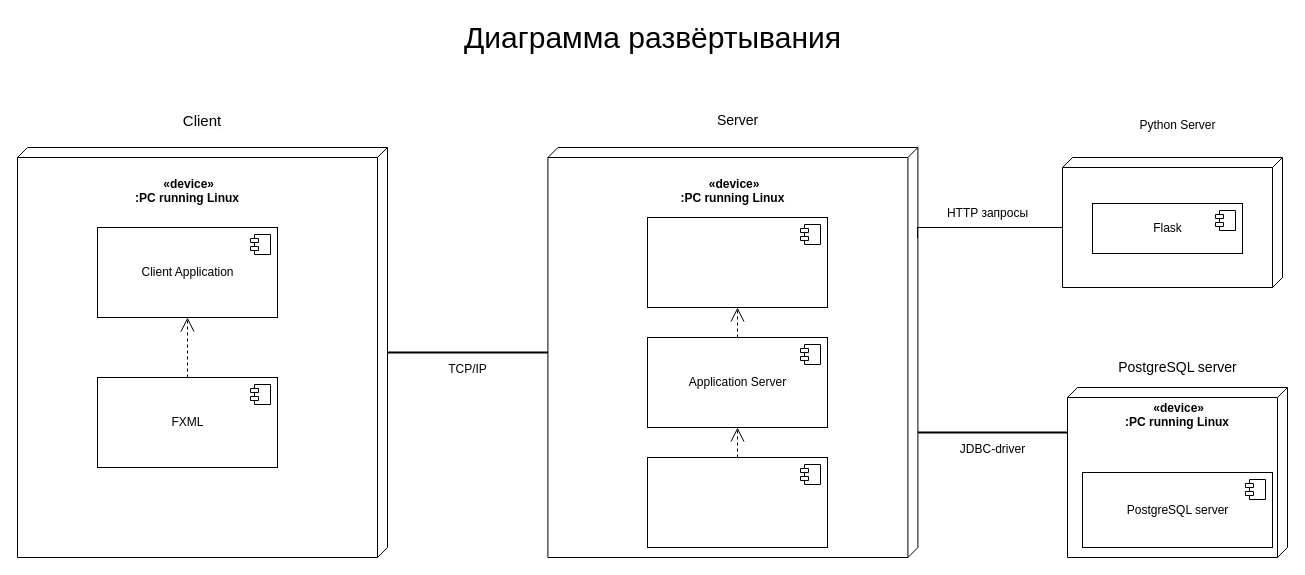
Some shapes in this 1305 by 575 pixel diagram are drawn without their labels. The centre of each missing label's shape, as x and y in pixels:
"Console" belongs at pixel 737 262.
"Maven" belongs at pixel 737 502.
